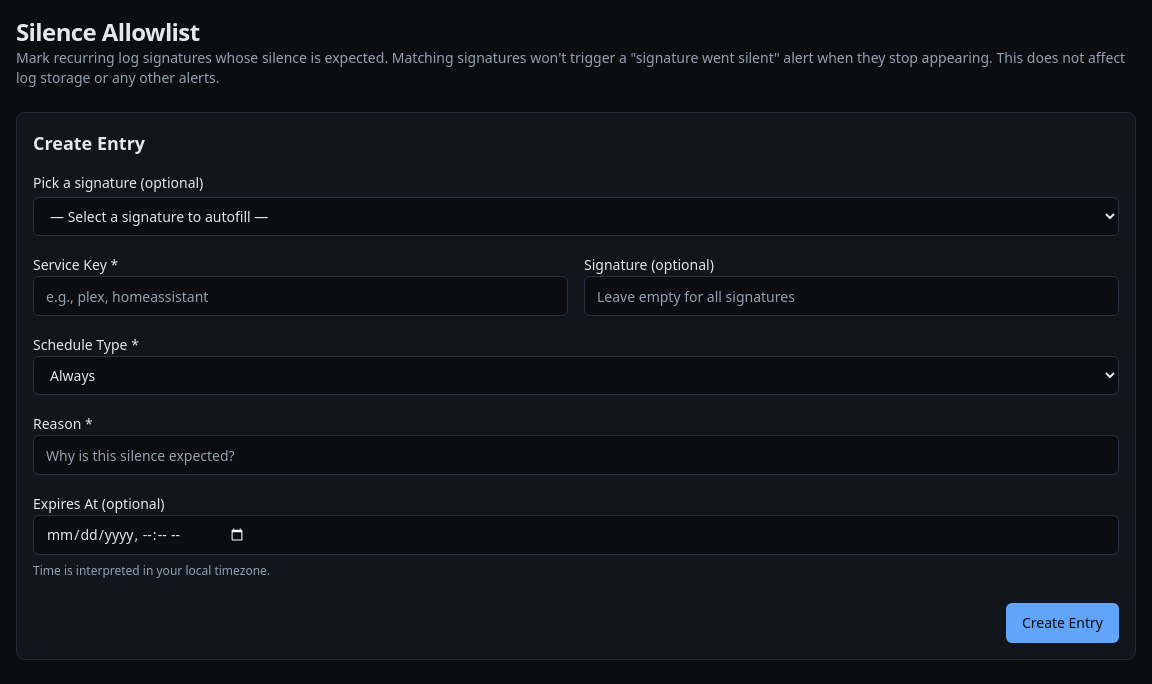
Test: SilenceAllowlistTab › shows cron field when schedule_kind changes to cron
The width and height of the screenshot is (1152, 684).
Select "Cron" in the dropdown with test id "silence-schedule-kind" at x=576, y=376, box [33,356,1119,395]
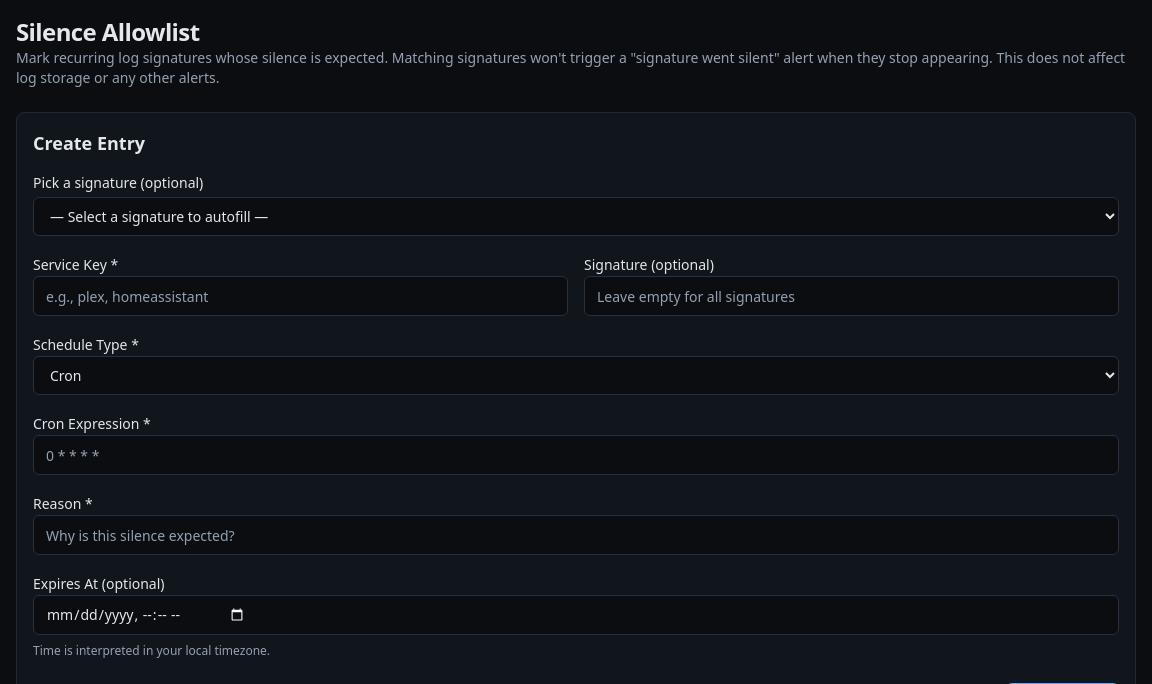
Result: the field with test id "silence-cron-value" is shown at [33,435,1119,475]
